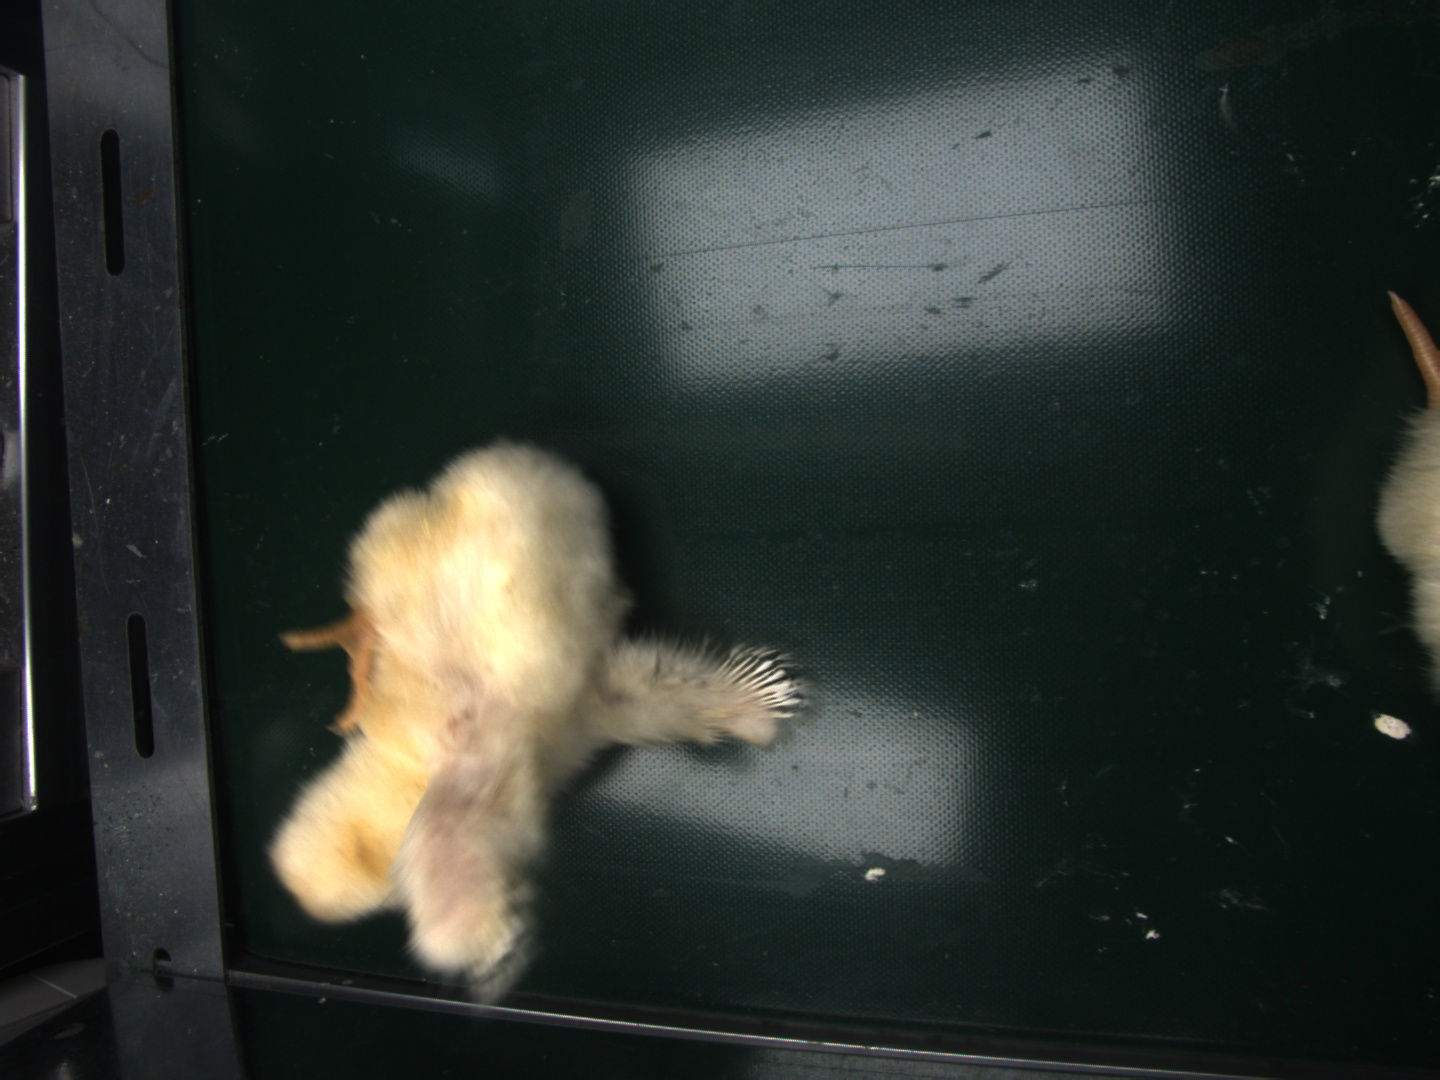male: (718, 649, 794, 715)
